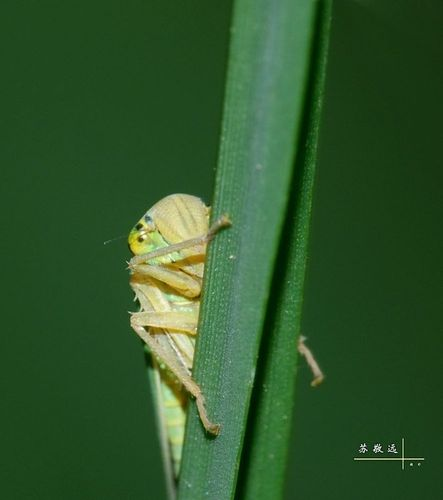Cicadellidae: (126, 194, 222, 478)
